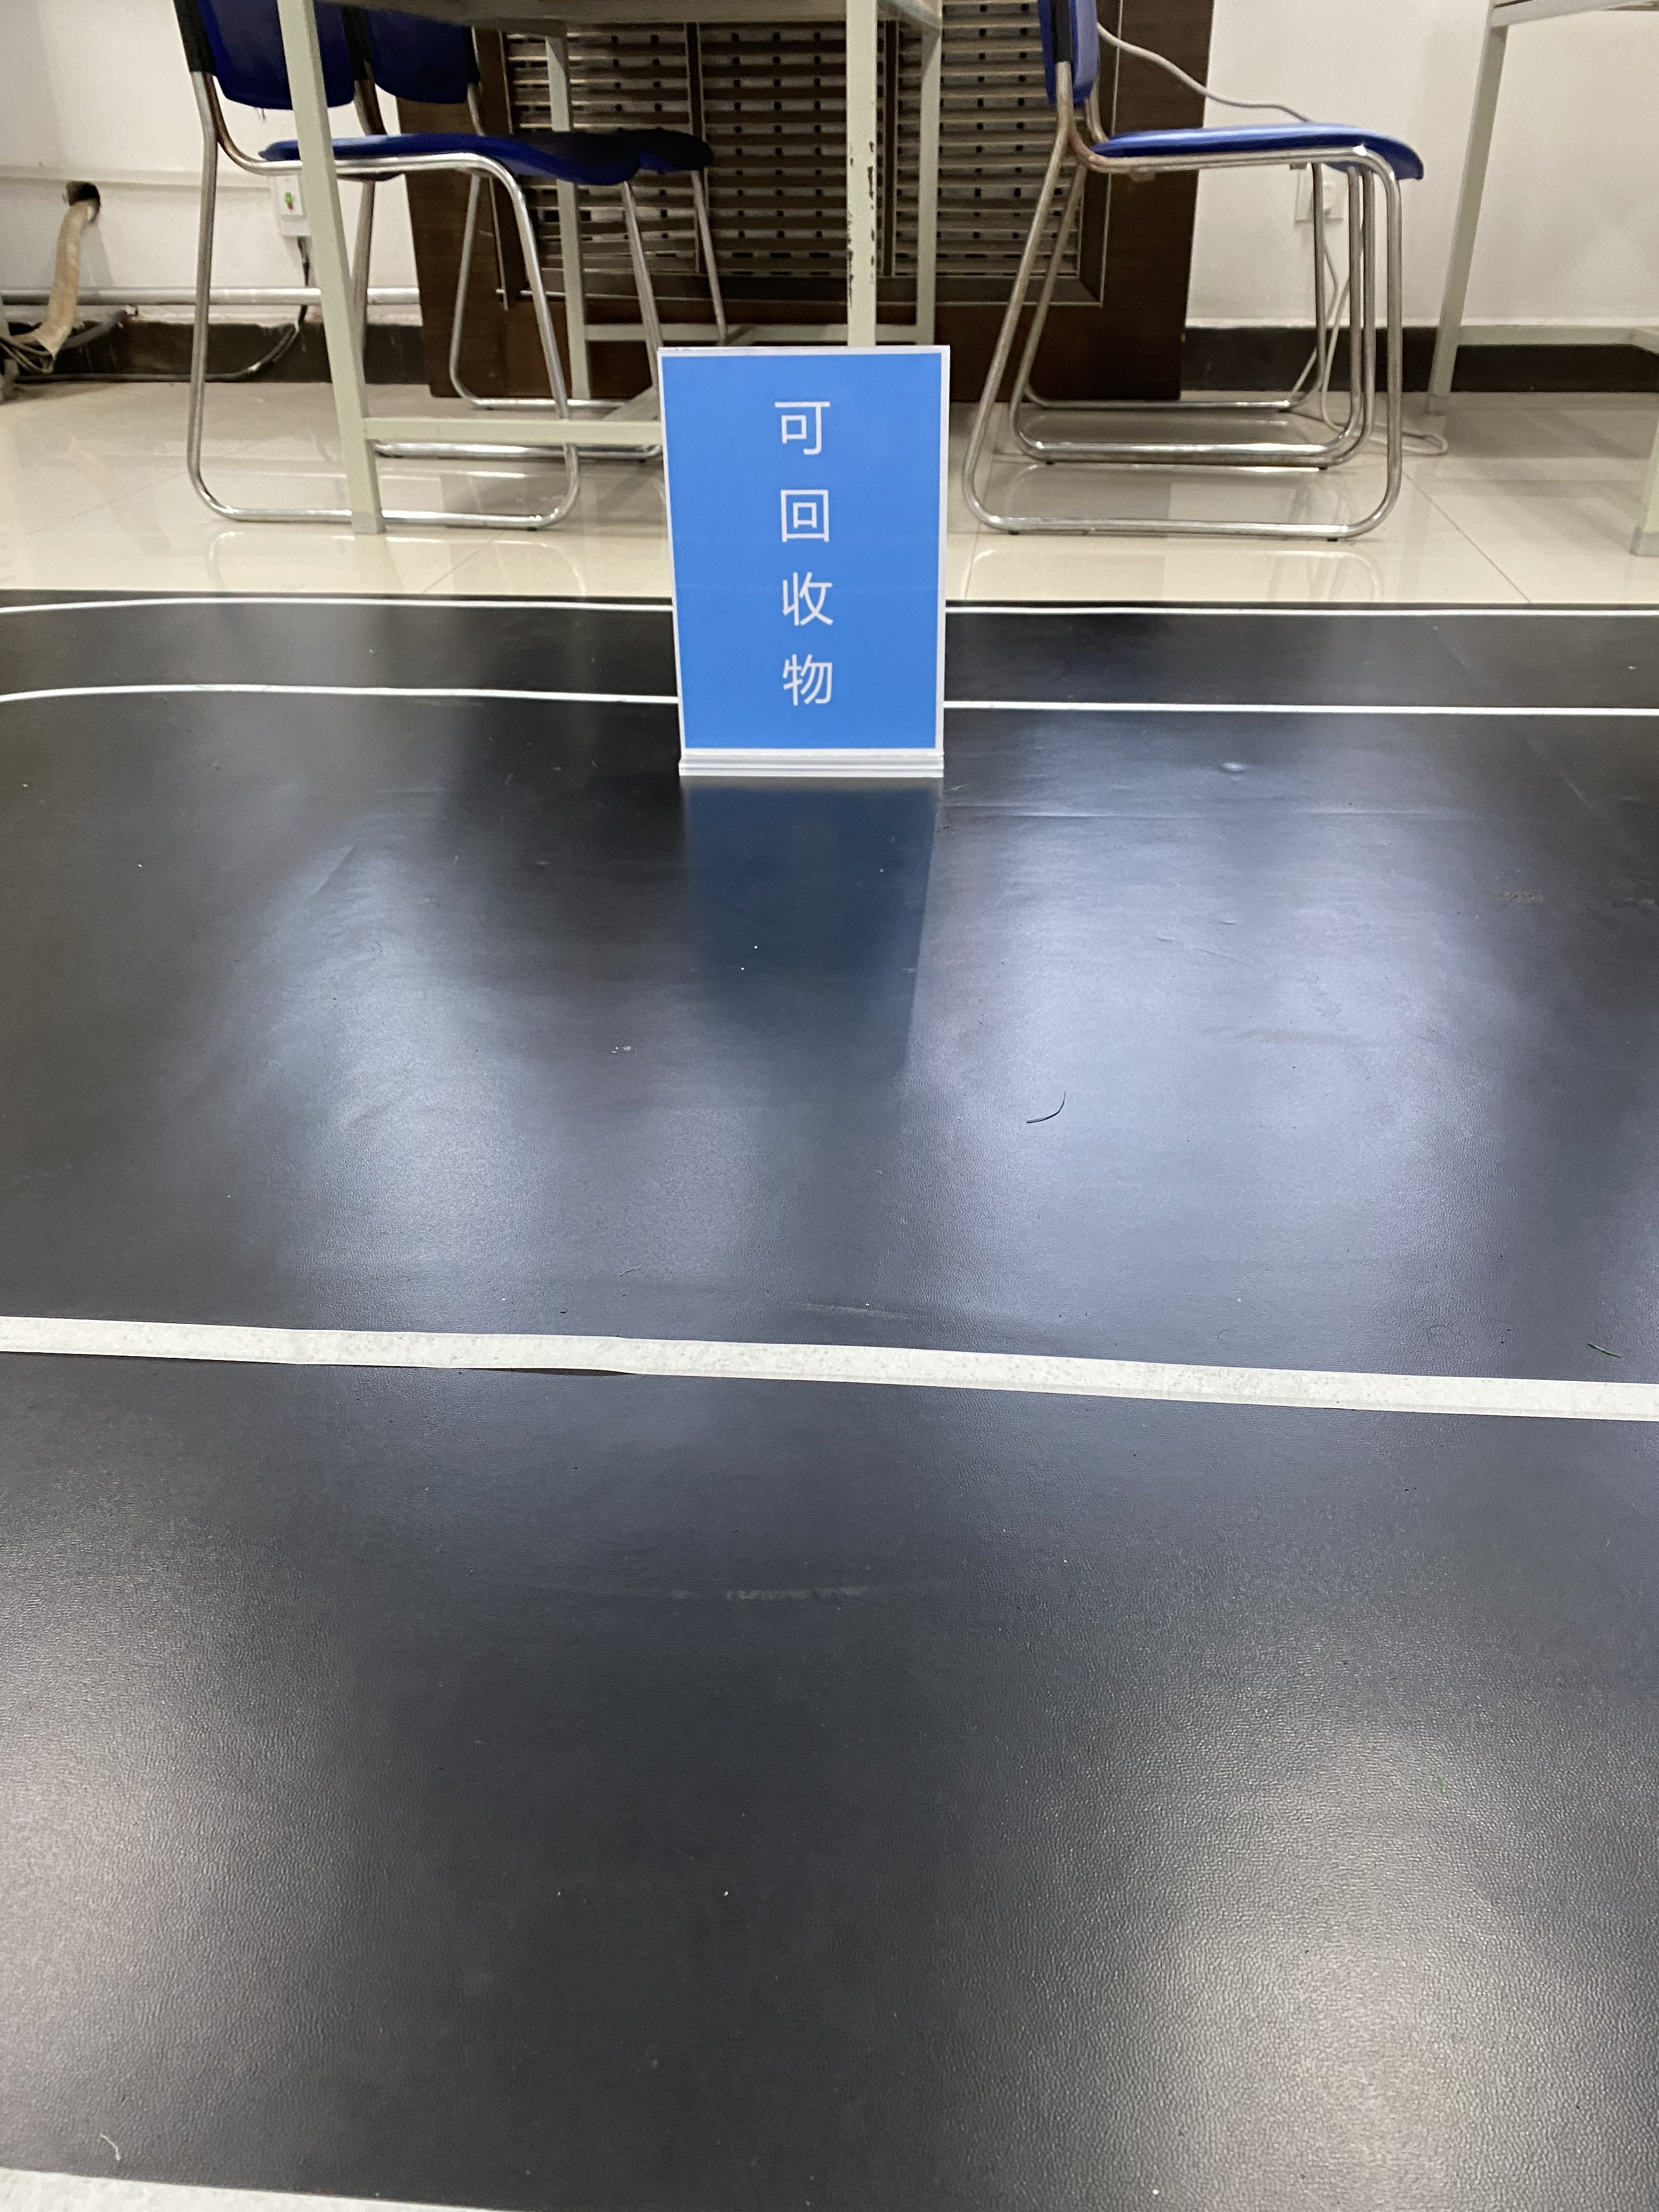blue: (662, 352, 939, 744)
